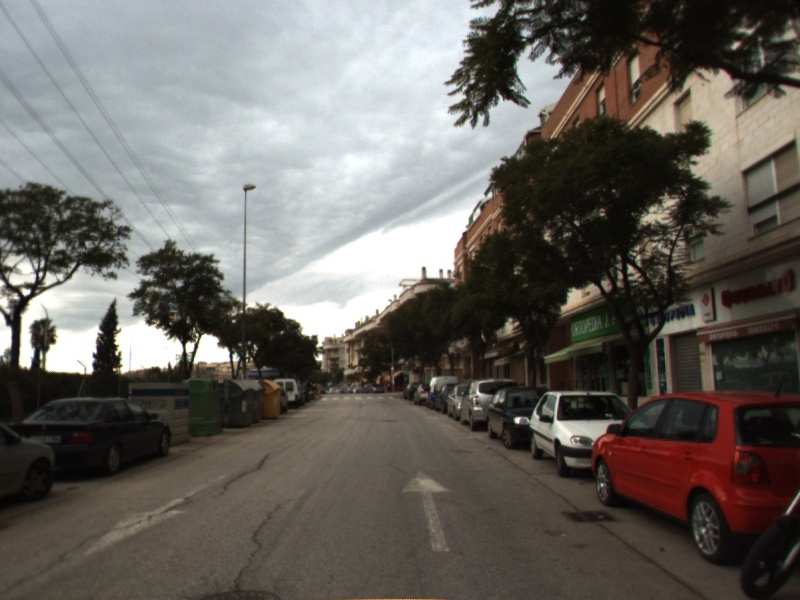STRAIGHT: (398, 466, 457, 554)
